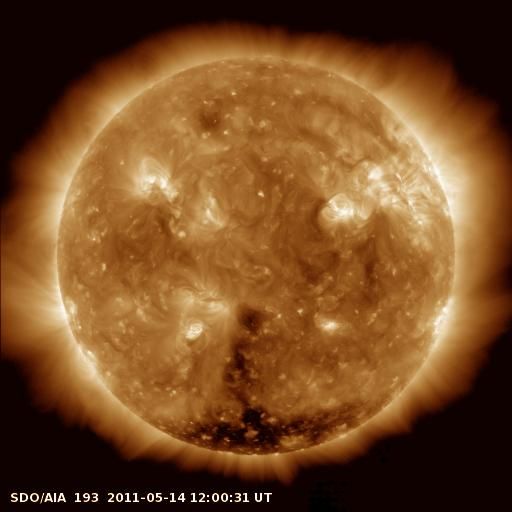coronal_hole: (181, 302, 368, 460)
